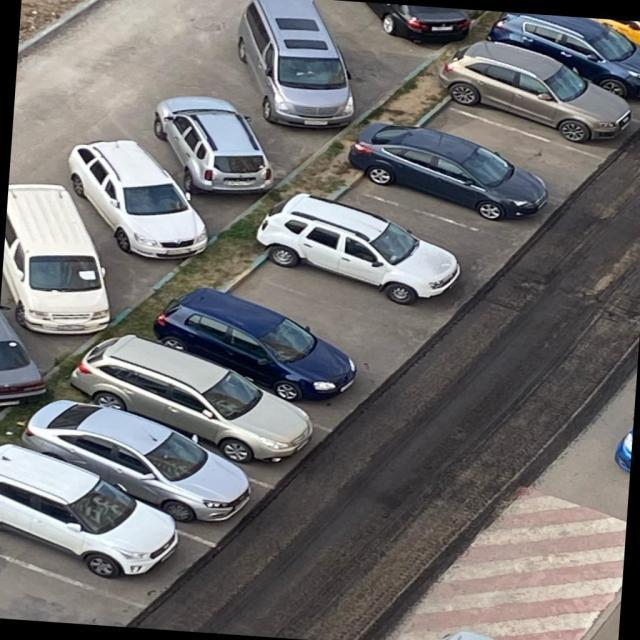space-empty: (191, 263, 439, 383), (300, 185, 518, 290), (414, 101, 608, 203)
space-occupied: (69, 330, 343, 485), (17, 401, 266, 537), (243, 194, 488, 325), (312, 127, 567, 251), (0, 466, 197, 616), (147, 298, 371, 418), (437, 46, 640, 162)
